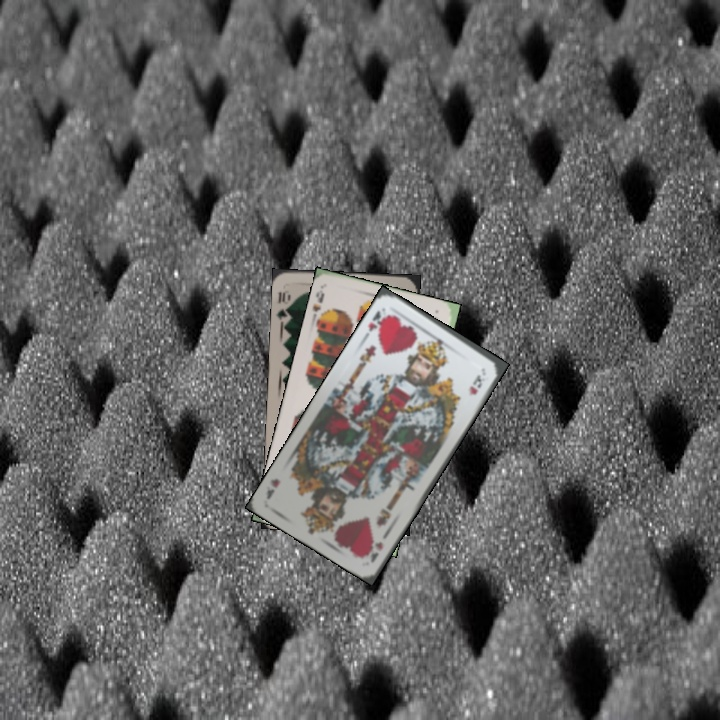G10: (273, 288, 294, 325)
HK: (362, 529, 392, 565), (362, 307, 391, 341)
S9: (308, 286, 330, 325)
